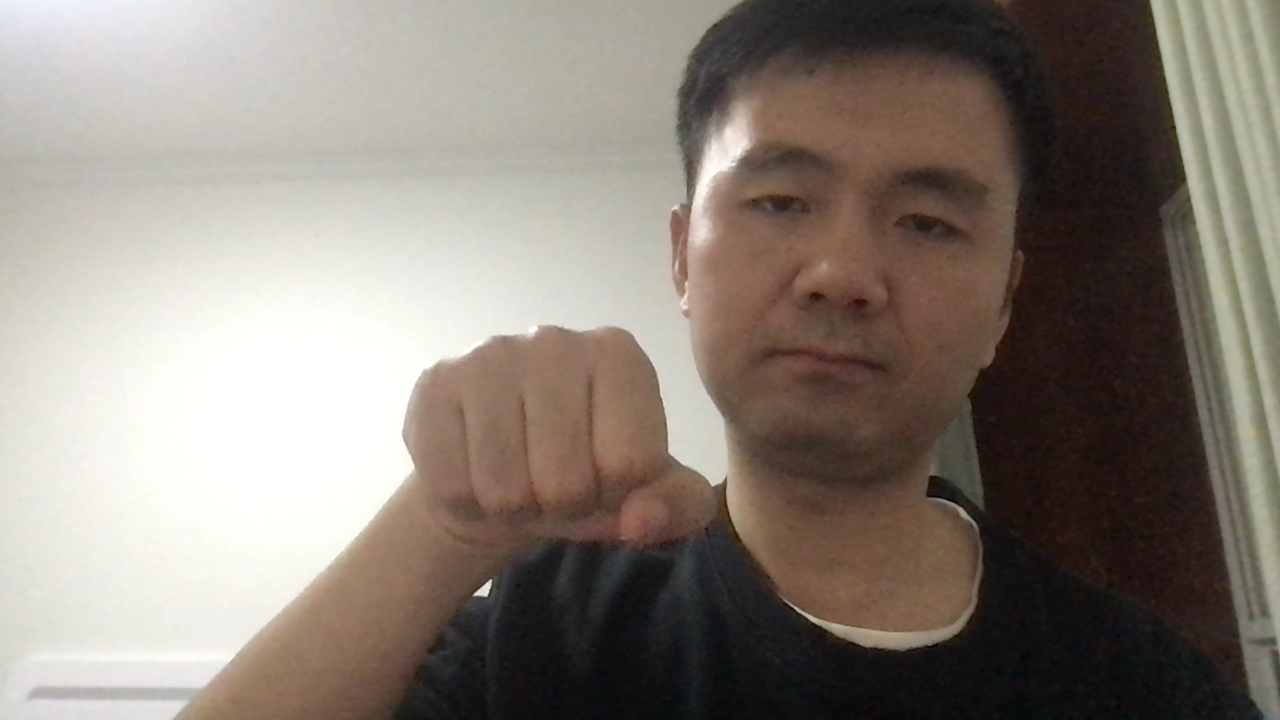ok: (375, 312, 723, 549)
